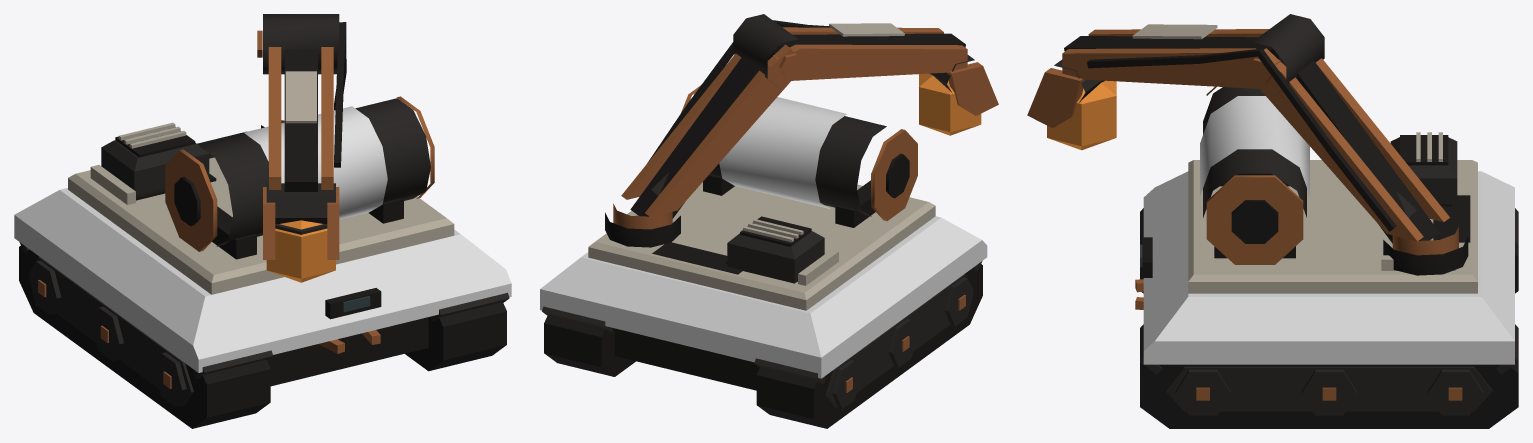
Rendered from lnd_t1_engineer.bc35a451.glb.
3 views of the same model, side by side, from view 1: azimuth 30°, elevation 25°; view 2: azimuth 150°, elevation 25°; view 3: azimuth 270°, elevation 25° (orthographic). The views are drawn at different scales.
Visible parts, largest first — view 1: lod0; view 2: lod0; view 3: lod0.
Part boxes in pixels (x1,y1,x2,y2): lod0: (14, 14, 511, 428); lod0: (540, 14, 998, 428); lod0: (1027, 14, 1518, 428).
Size of what is drawn, in the model's own units: 0.995 by 0.9858 by 1.32.
